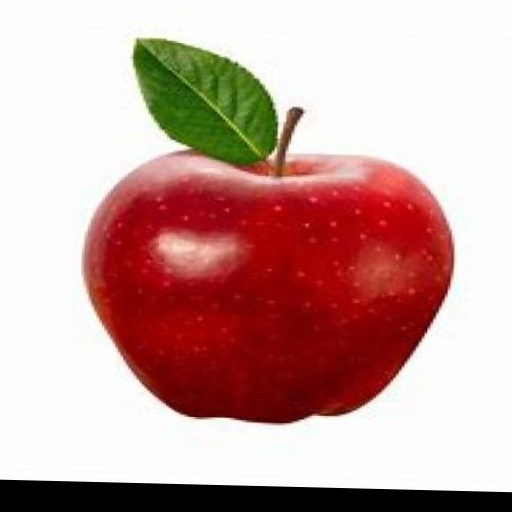fruit: (85, 153, 452, 422)
